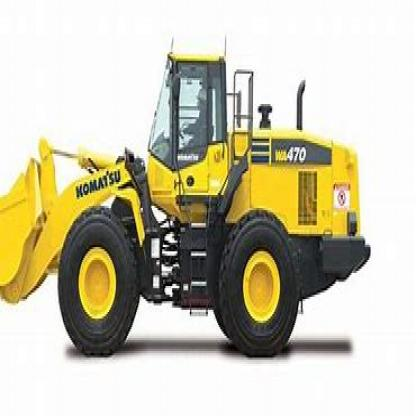bull_dozer/loader/grader: (0, 35, 371, 366)
